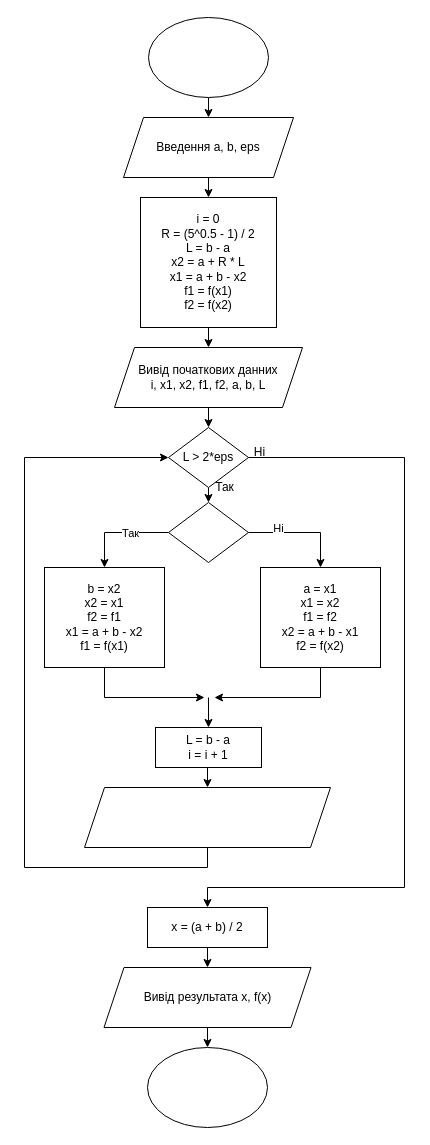
The diagram is 430 pixels wide and 1145 high, and some of its shapes have lost their labels. The shapes that lost their labels are listed below. From the top down, each one's centre as x and y in pixels, then its label:
At (x=208, y=57): "Початок".
At (x=208, y=532): "f1 < f2".
At (x=207, y=817): "Вивід проміжних результатів i, x1, x2, f1, f2, a, b, L".
At (x=207, y=1087): "Кінець".
